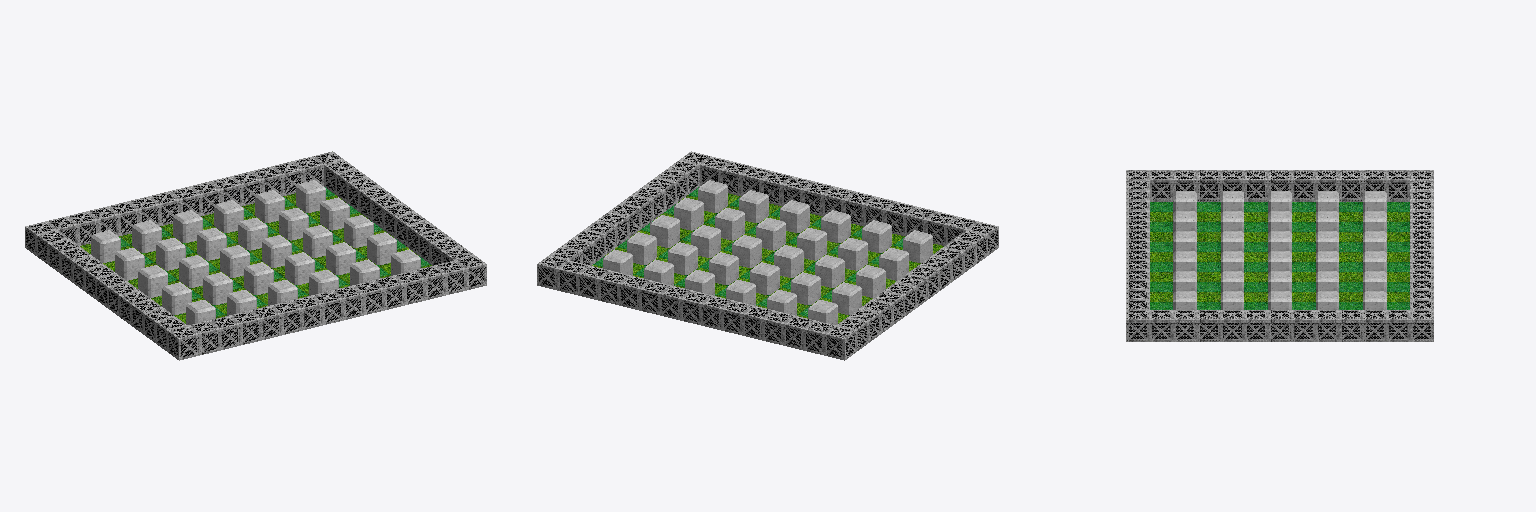
The picture shows the model from 3 angles: view 1: azimuth 30°, elevation 25°; view 2: azimuth 150°, elevation 25°; view 3: azimuth 270°, elevation 25°; orthographic projection.
Visible parts, largest first — view 1: sol1_Plane, sol2_Plane.001, Border.025_Cube.026, Concrete.014_Cube.067, Concrete.015_Cube.068, Concrete.011_Cube.064, Concrete.012_Cube.065, Concrete.020_Cube.073, Concrete.022_Cube.075, Concrete.024_Cube.077, Concrete.003_Cube.056, Concrete.004_Cube.057 (+28 smaller); view 2: sol1_Plane, sol2_Plane.001, Border.021_Cube.022, Concrete.014_Cube.067, Concrete.015_Cube.068, Concrete.008_Cube.061, Concrete.010_Cube.063, Concrete.012_Cube.065, Concrete.023_Cube.076, Concrete.024_Cube.077, Concrete.009_Cube.062, Concrete.011_Cube.064 (+28 smaller); view 3: sol2_Plane.001, sol1_Plane, Border_Cube.001, Border.002_Cube.003, Border.003_Cube.004, Border.004_Cube.005, Border.005_Cube.006, Border.007_Cube.008, Border.008_Cube.009, Border.009_Cube.010, Border.011_Cube.012, Border.015_Cube.016 (+9 smaller).
Part boxes in pixels (x1,y1,x2,y2): sol1_Plane: (80, 193, 431, 323); sol2_Plane.001: (119, 187, 430, 316); Border.025_Cube.026: (167, 326, 199, 360); Concrete.014_Cube.067: (179, 255, 208, 287); Concrete.015_Cube.068: (220, 245, 249, 277); Concrete.011_Cube.064: (279, 208, 308, 240); Concrete.012_Cube.065: (320, 197, 349, 230); Concrete.020_Cube.073: (203, 272, 232, 304); Concrete.022_Cube.075: (285, 252, 314, 284); Concrete.024_Cube.077: (367, 232, 396, 264); Concrete.003_Cube.056: (173, 210, 202, 242); Concrete.004_Cube.057: (214, 200, 243, 232); sol1_Plane: (592, 193, 943, 323); sol2_Plane.001: (593, 187, 904, 316); Border.021_Cube.022: (824, 326, 856, 360); Concrete.014_Cube.067: (815, 255, 844, 287); Concrete.015_Cube.068: (774, 245, 803, 277); Concrete.008_Cube.061: (791, 272, 820, 304); Concrete.010_Cube.063: (709, 252, 738, 284); Concrete.012_Cube.065: (627, 232, 656, 264); Concrete.023_Cube.076: (715, 208, 744, 240); Concrete.024_Cube.077: (674, 197, 703, 230); Concrete.009_Cube.062: (750, 262, 779, 294); Concrete.011_Cube.064: (668, 242, 697, 274); sol2_Plane.001: (1150, 202, 1409, 309); sol1_Plane: (1150, 212, 1409, 301); Border_Cube.001: (1410, 310, 1433, 341); Border.002_Cube.003: (1363, 310, 1386, 341); Border.003_Cube.004: (1339, 310, 1362, 341); Border.004_Cube.005: (1268, 310, 1291, 341); Border.005_Cube.006: (1292, 310, 1315, 341); Border.007_Cube.008: (1244, 310, 1267, 341); Border.008_Cube.009: (1126, 310, 1149, 341); Border.009_Cube.010: (1197, 310, 1220, 341); Border.011_Cube.012: (1173, 310, 1196, 341); Border.015_Cube.016: (1339, 170, 1362, 201).
Bounding box in the file's own units: 75 × 5 × 65.
Materials: 5 (4 with a texture image).